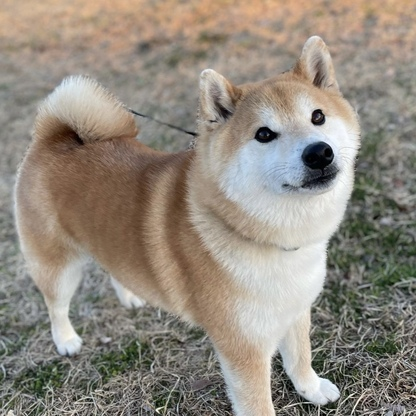shiba: (8, 27, 365, 416)
